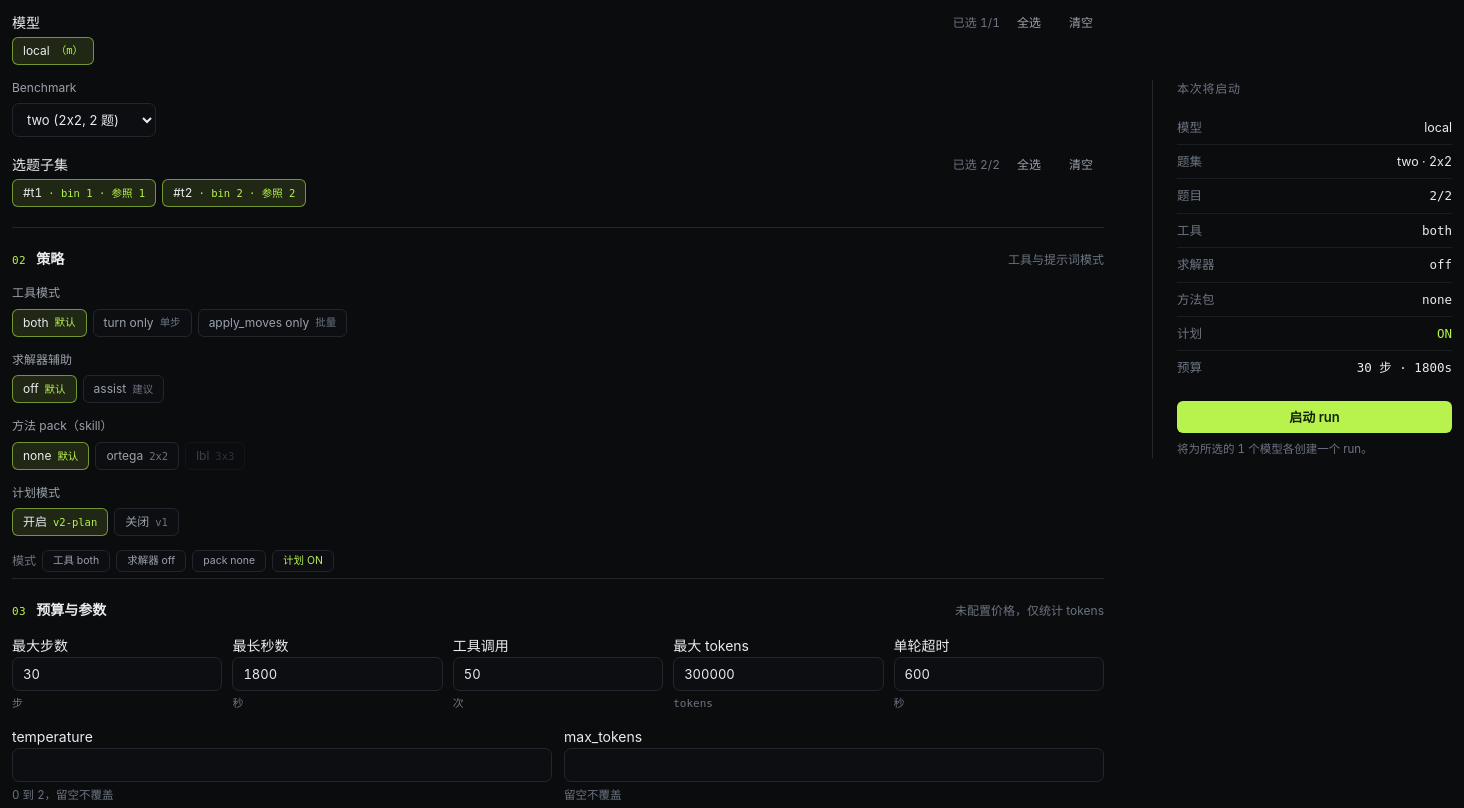
it: NewRunView › rejects max_seconds 清空 before starting a run
This screenshot has width=1464, height=808.
(page scrolled)
Clear the number field named "max_seconds" at (338, 674), box top-left (232, 657), bottom-right (443, 691)
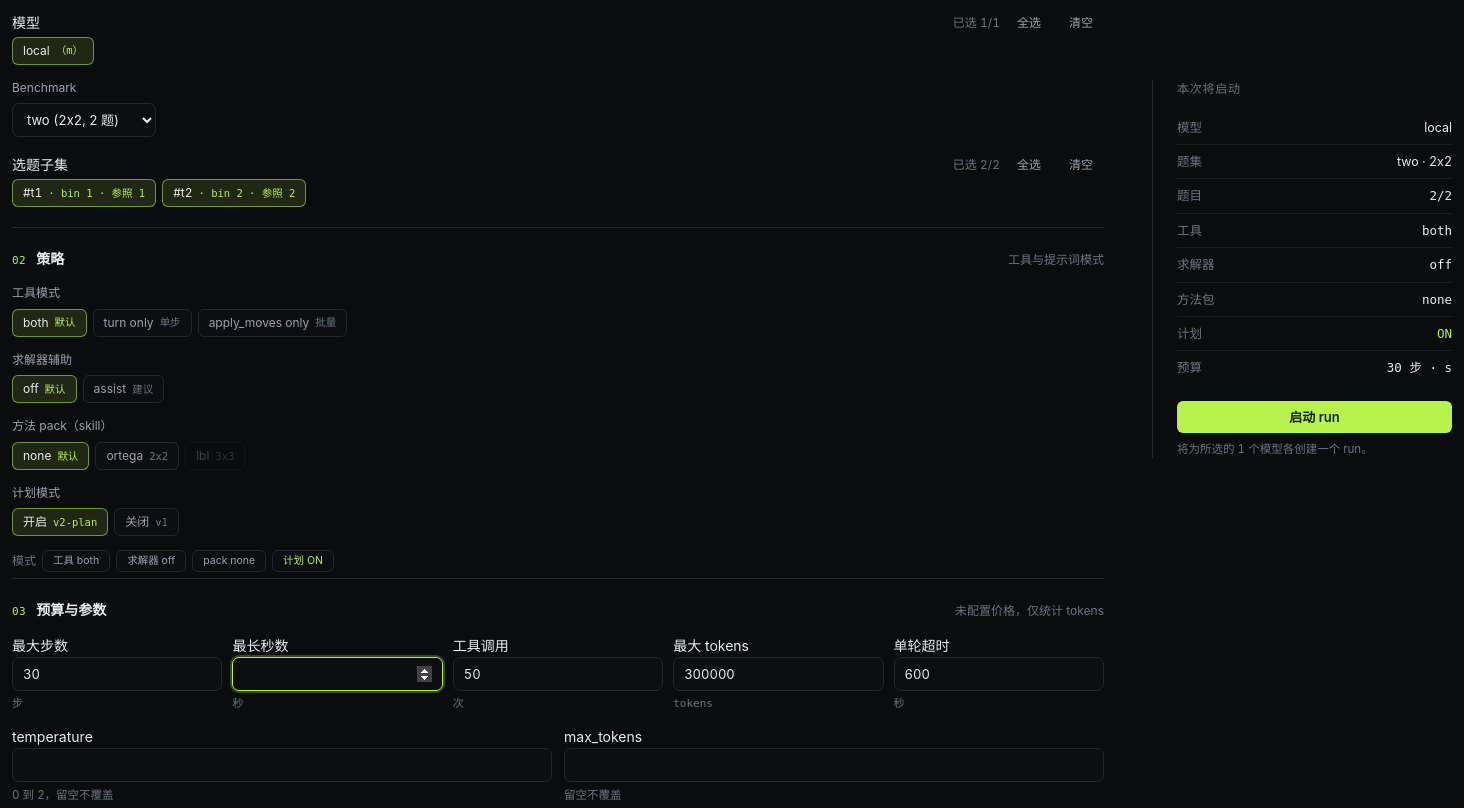
Click the button "启动 run".
click(1314, 417)  # box top-left (1177, 401), bottom-right (1452, 433)
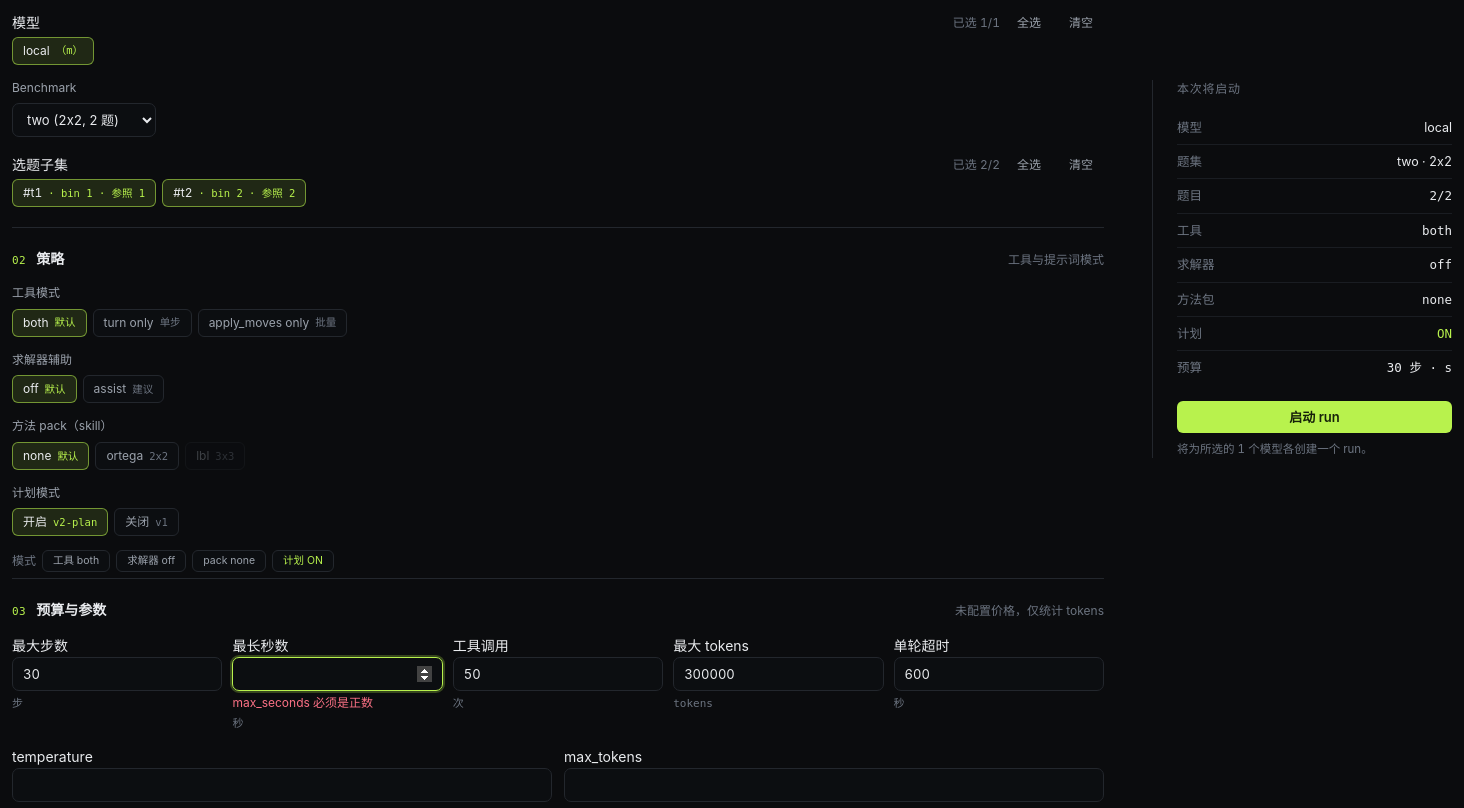
Expected: the text "max_seconds 必须是正数" is shown, top-left (232, 695), bottom-right (373, 710)
